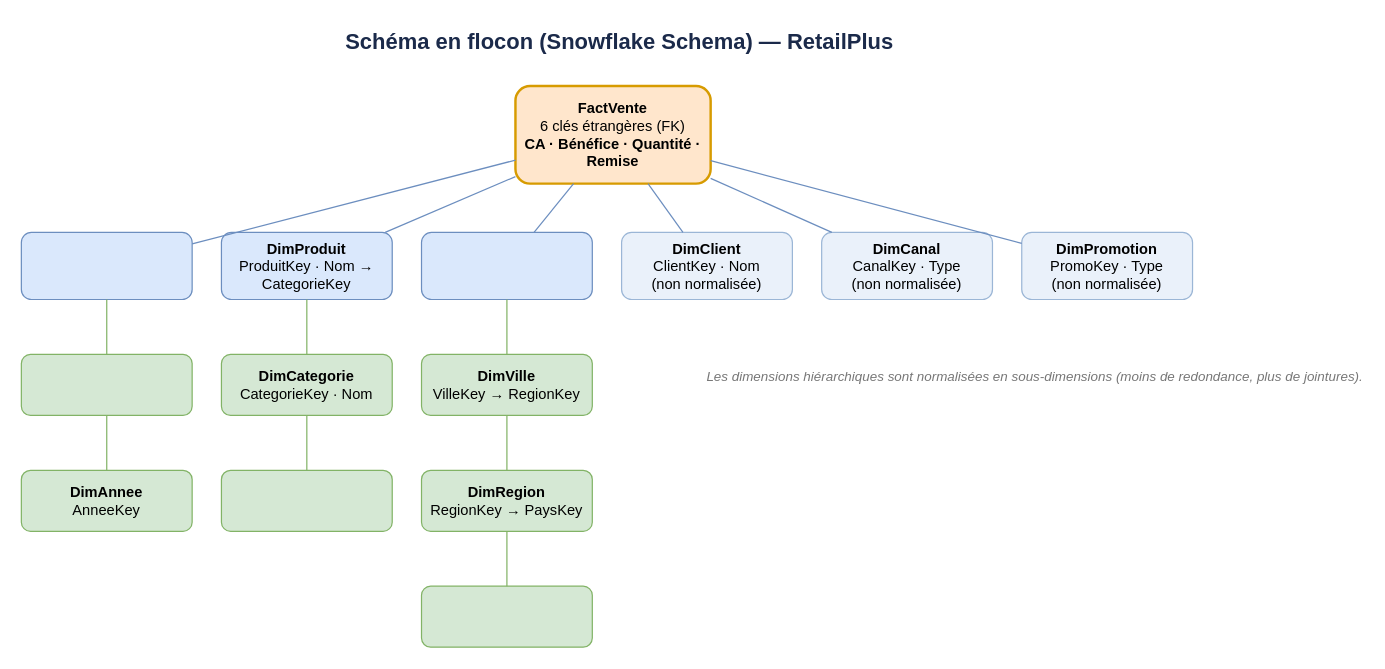
The diagram is 1385 pixels wide and 669 high, and some of its shapes have lost their labels. Each missing label, with the box of its shape:
DimMagasin MagasinKey → VilleKey: (420, 231, 592, 300)
DimMarque MarqueKey · Nom: (220, 469, 392, 531)
DimPays PaysKey · Nom: (420, 585, 592, 647)
DimTemps DateKey · Jour · Mois: (20, 231, 192, 300)
DimTrimestre TrimestreKey: (20, 353, 192, 415)
